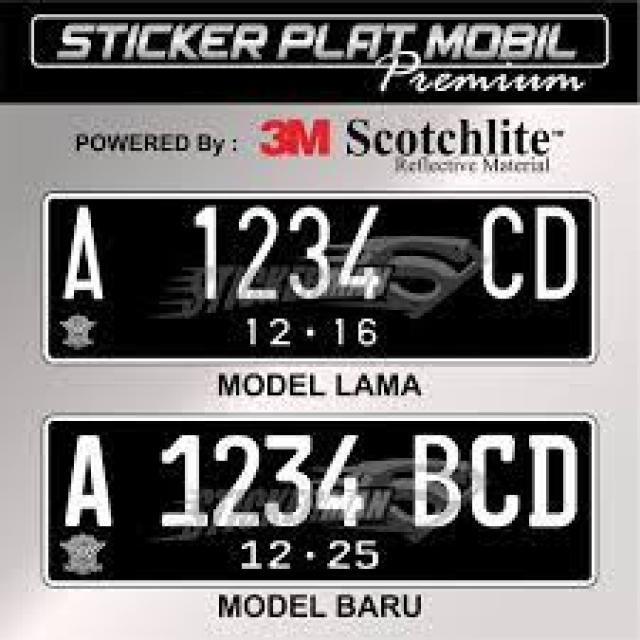lisence-plate: (32, 189, 604, 372), (49, 412, 609, 587)
